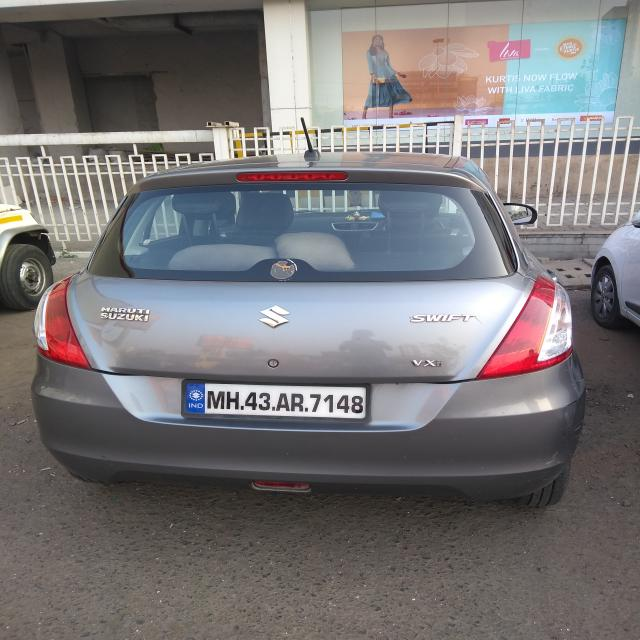Number-Plate: (189, 385, 371, 418)
